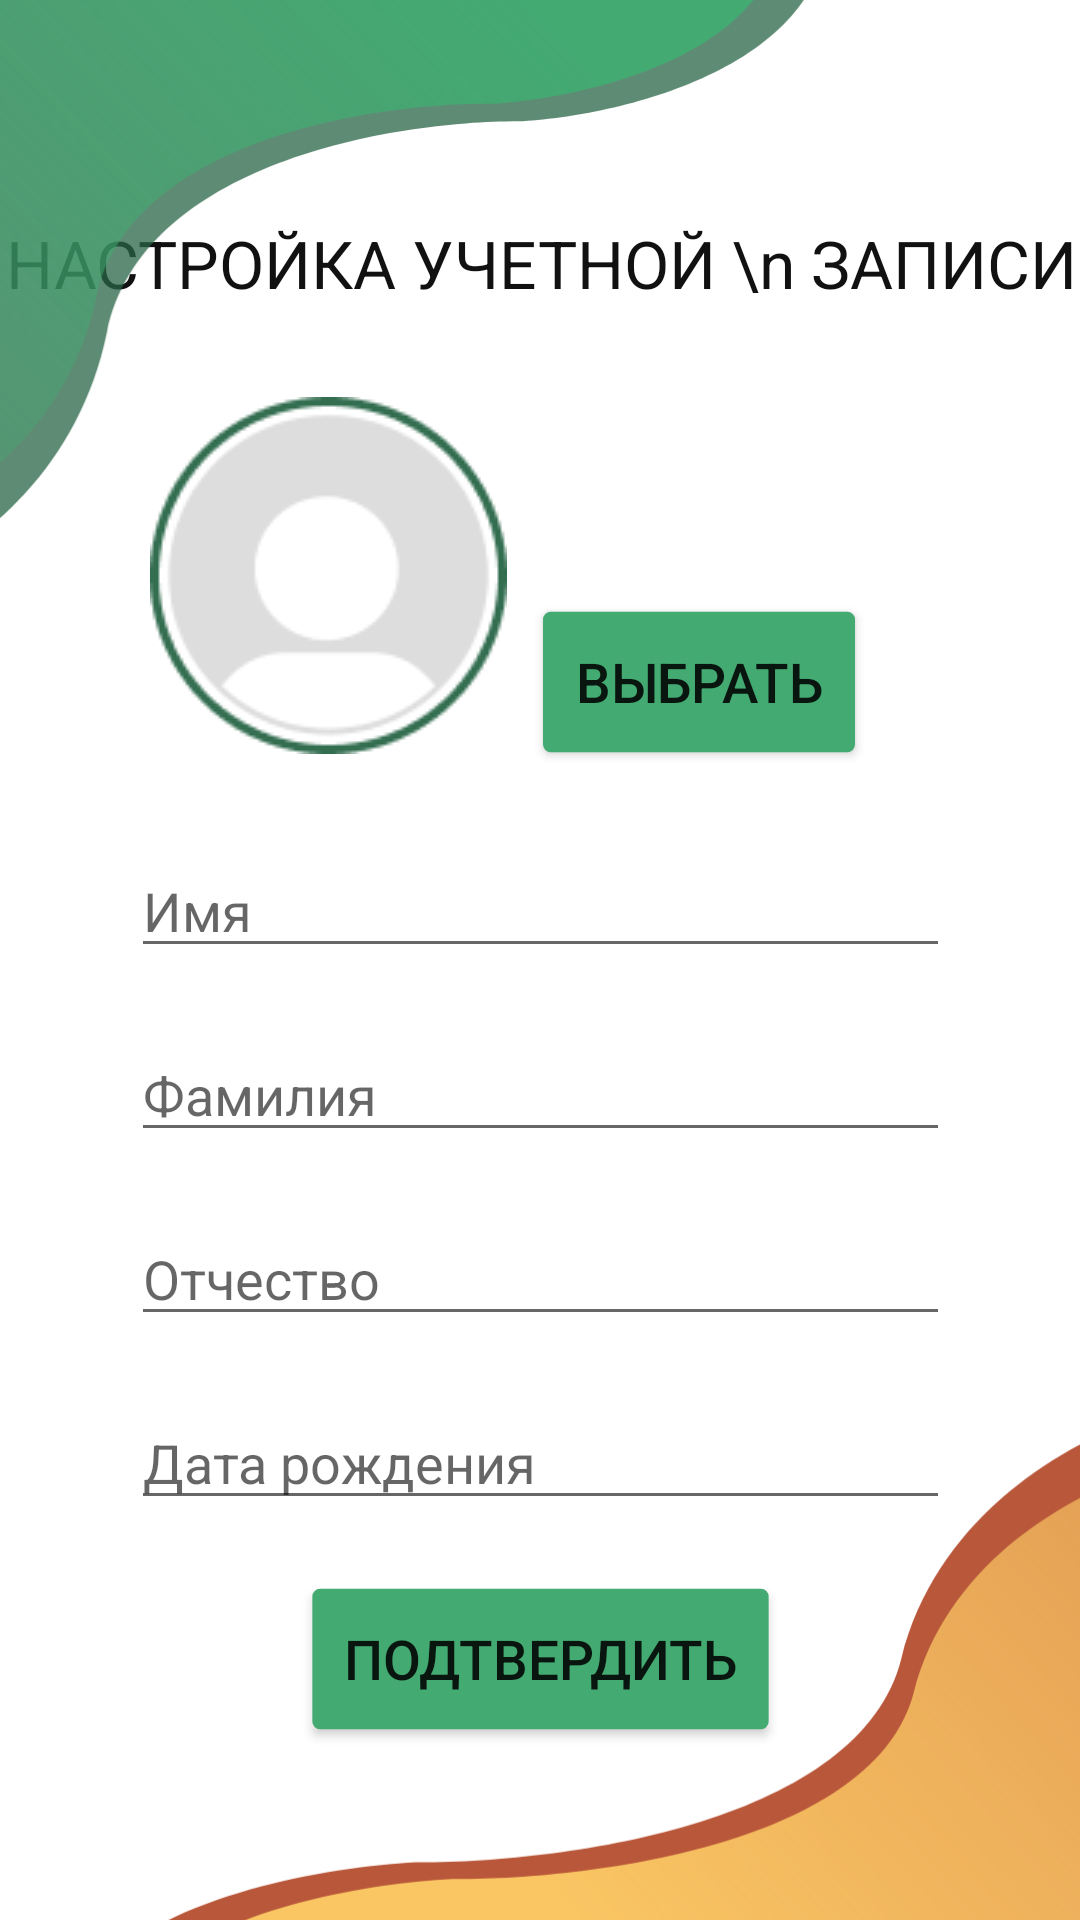

Locate icon controls on the screen. Image size 1080w x 1920h, boxes as (x1, y1, x2, y2).
setup pfp: (150, 397, 507, 754)
